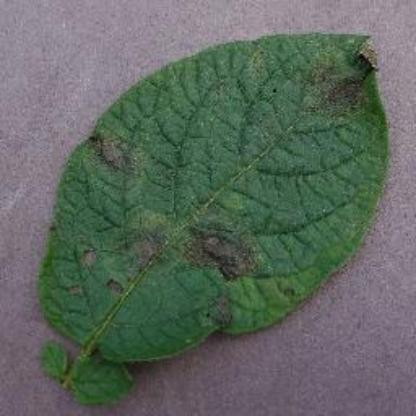Late-Blight: (35, 23, 398, 401)
